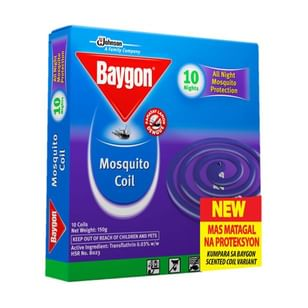Open-Flame-Hazard: (159, 130, 260, 226)
